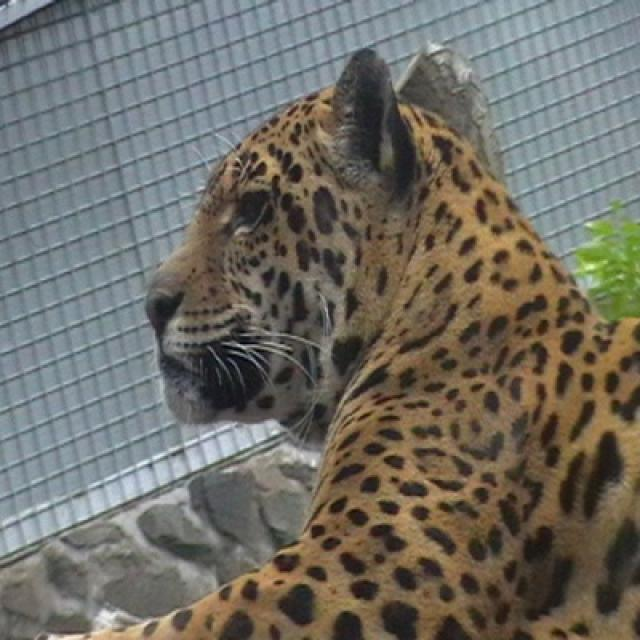Jaguar: (75, 48, 638, 638)
